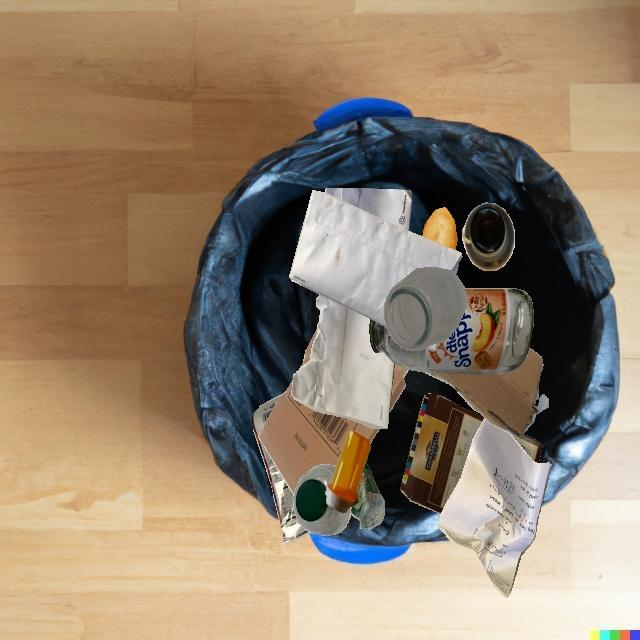biowaste: (422, 207, 458, 250)
cardboard: (258, 380, 379, 496), (424, 347, 549, 438), (400, 393, 485, 514)
glass: (369, 288, 534, 375), (384, 267, 467, 351), (462, 202, 515, 270)
paper: (289, 190, 462, 328), (438, 418, 552, 597), (291, 294, 395, 429)
plastic: (252, 393, 311, 543), (293, 464, 351, 536), (326, 428, 370, 513), (350, 463, 385, 529)
